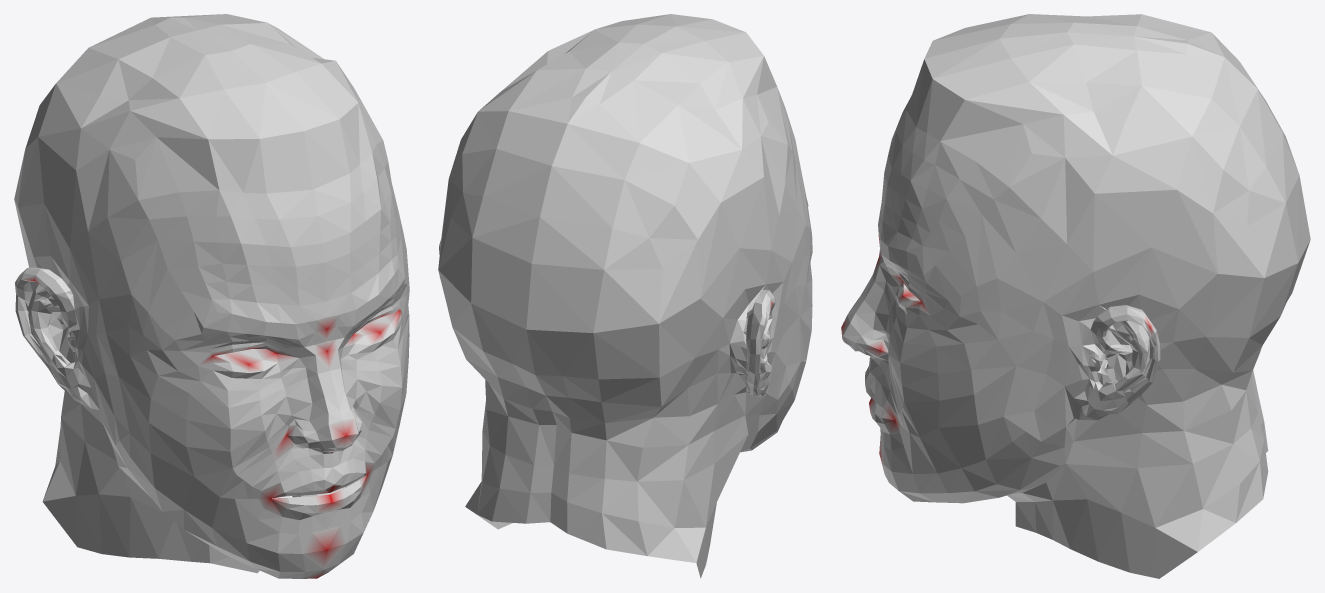
The picture shows the model from 3 angles, left to right: view 1: azimuth 30°, elevation 25°; view 2: azimuth 150°, elevation 25°; view 3: azimuth 270°, elevation 25°; orthographic projection. The views are drawn at different scales.
Bounding box in the file's own units: 21.04 × 29.45 × 25.29.
